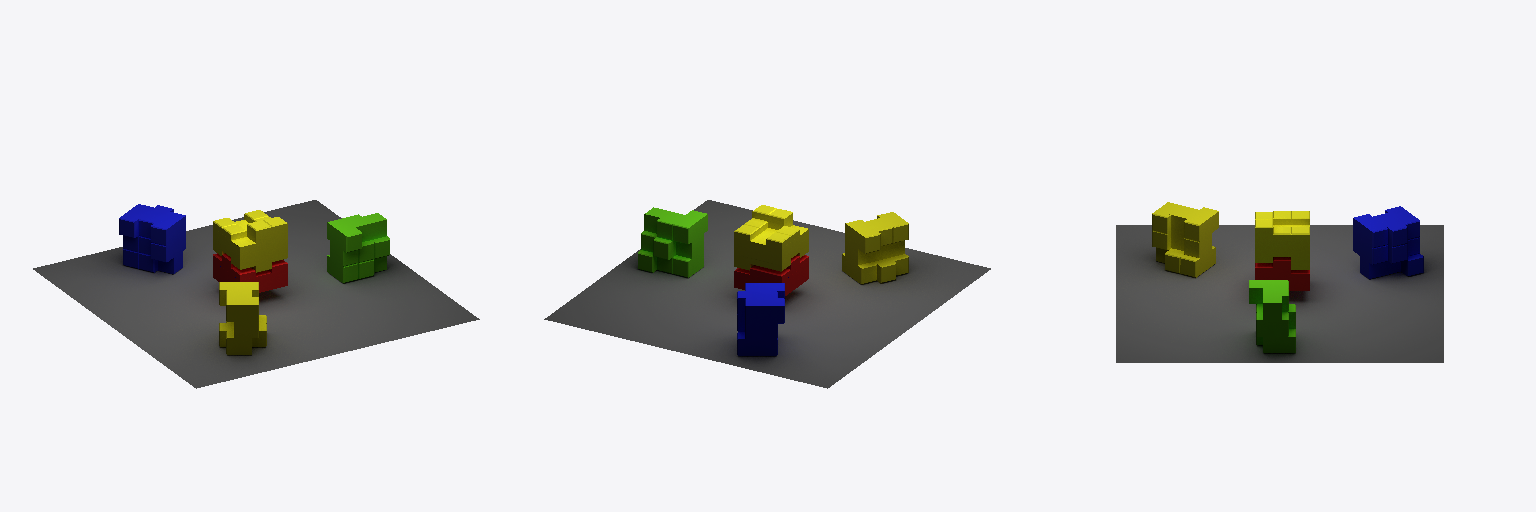
The picture shows the model from 3 angles: view 1: azimuth 30°, elevation 25°; view 2: azimuth 150°, elevation 25°; view 3: azimuth 270°, elevation 25°; orthographic projection.
Visible parts, largest first — view 1: object_6.003; view 2: object_6.003; view 3: object_6.003.
Part boxes in pixels (x1,y1,x2,y2): object_6.003: (33, 200, 479, 388); object_6.003: (544, 200, 990, 388); object_6.003: (1116, 202, 1443, 362).
Bounding box in the file's own units: 89.3 × 22.91 × 89.3.
2 materials, 2 textured.